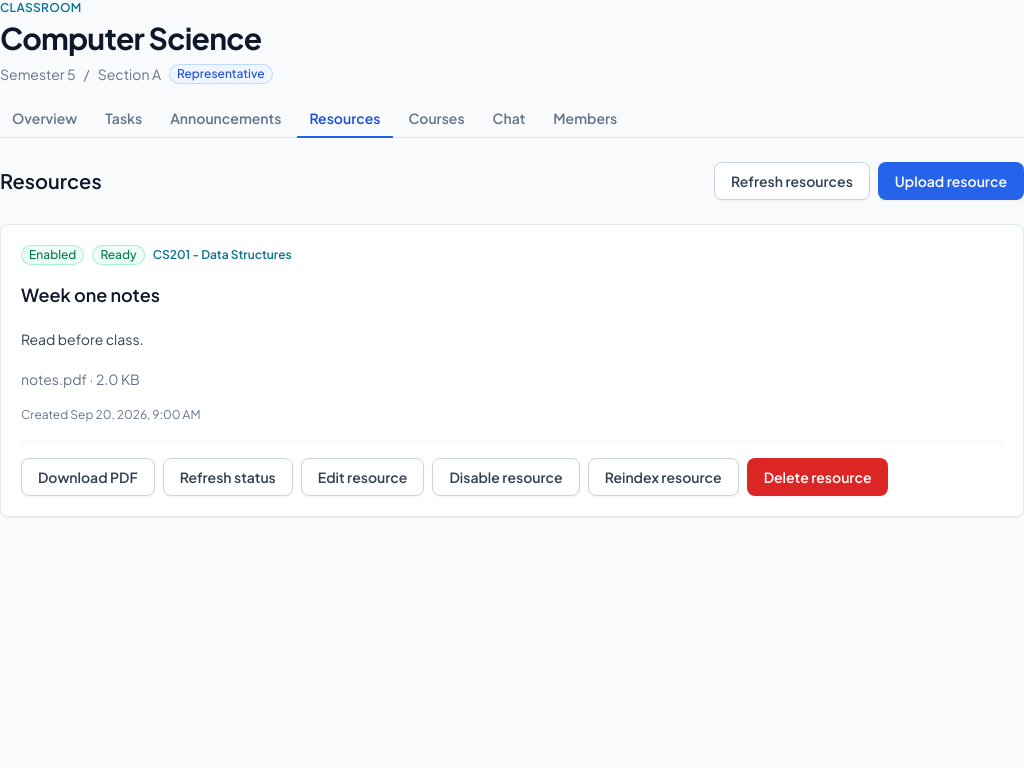
class resources › edits metadata without exposing mutable scope or PDF fields
Click the button "Edit resource". click: click(363, 477)
box: [301, 458, 424, 496]
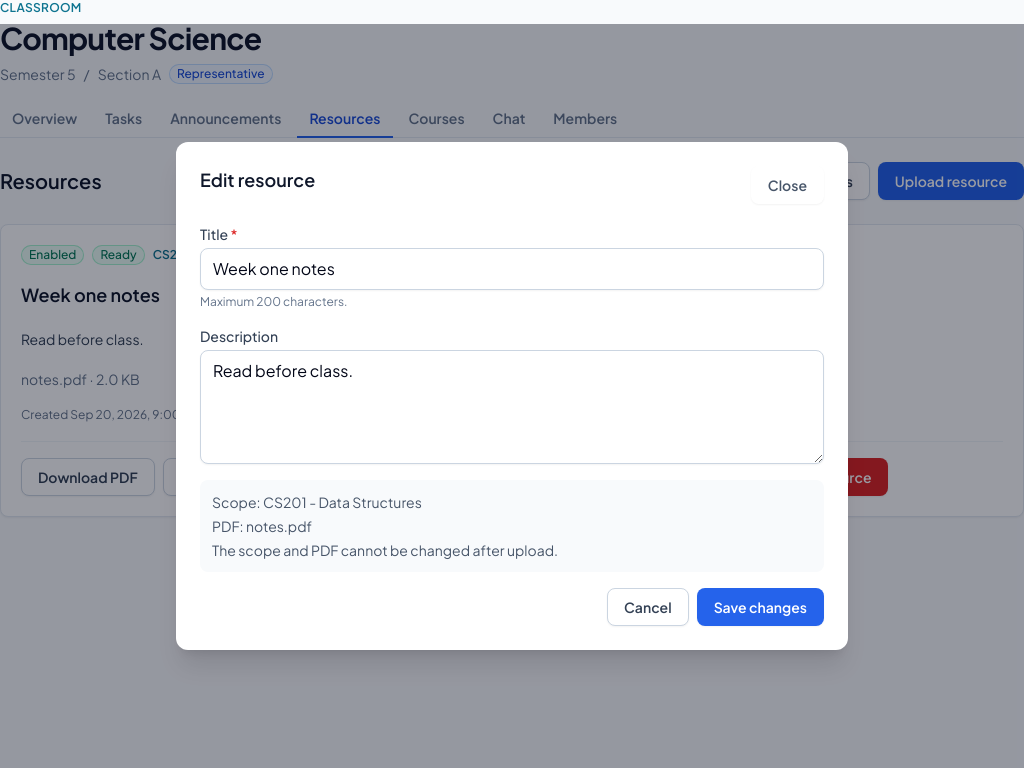
Result: the text "The scope and PDF cannot be changed after upload." is shown at [212, 541, 558, 559]
Replace the text in the field labelled "Title *" with "Updated notes". click: (512, 269)
box: [200, 248, 824, 290]
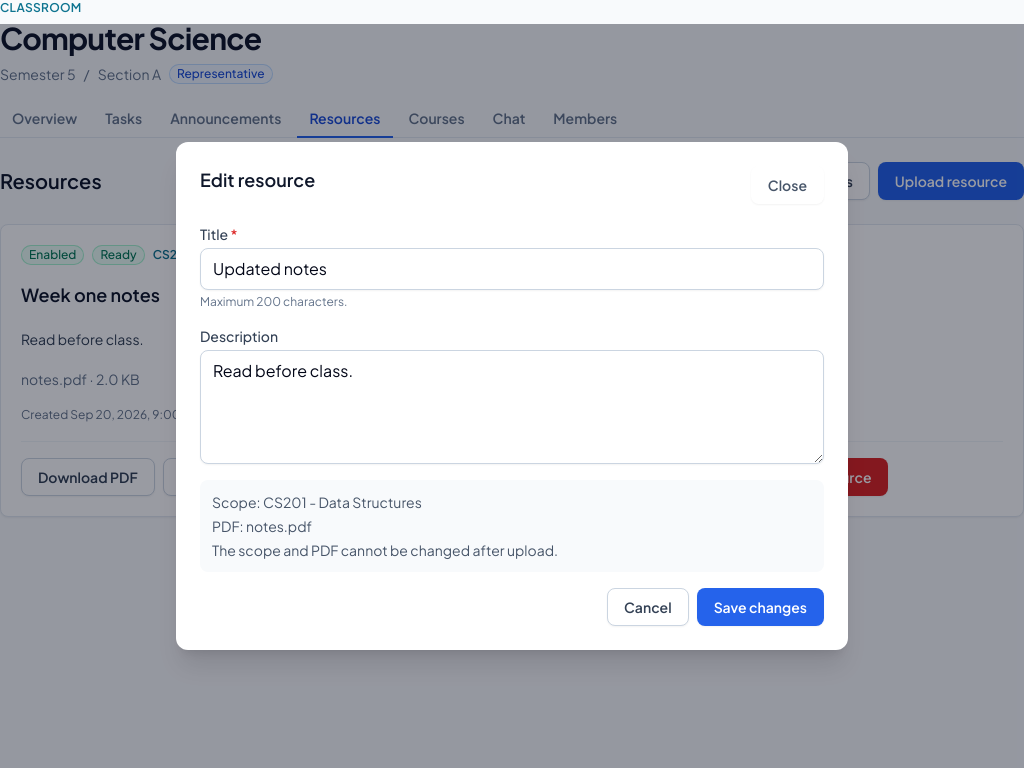
Clear the text box labelled "Description". click: (512, 407)
box: [200, 350, 824, 464]
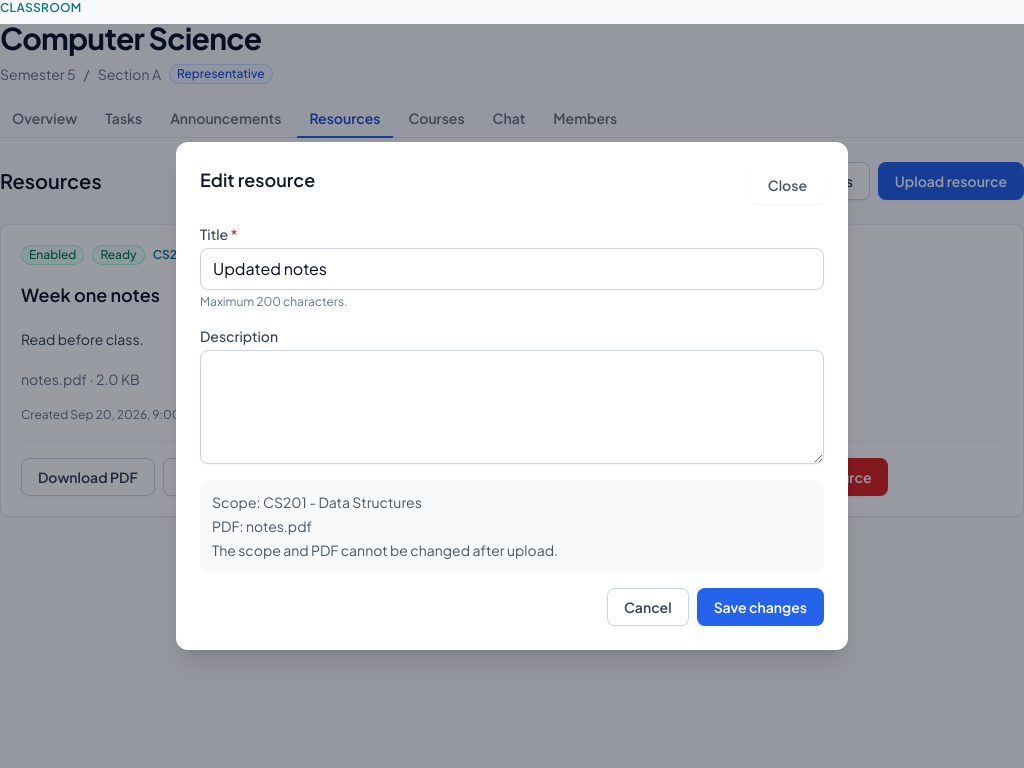
Click the button "Save changes". click: click(760, 607)
box: [697, 588, 824, 626]
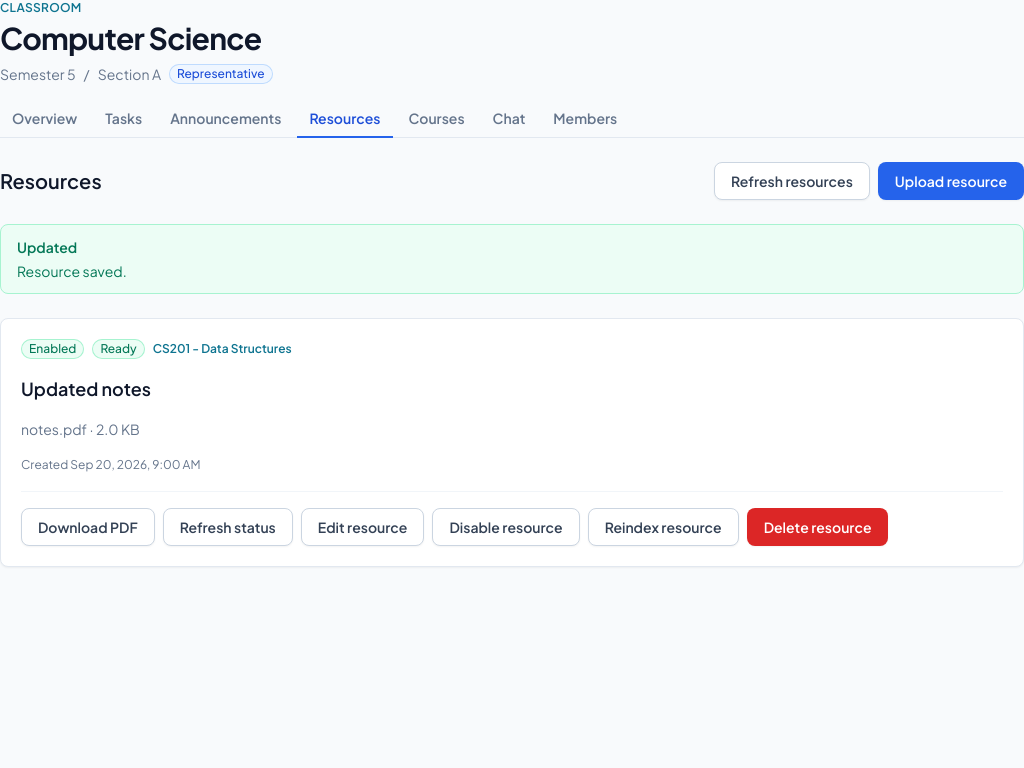
Result: the heading "Updated notes" is shown at [21, 377, 151, 400]
